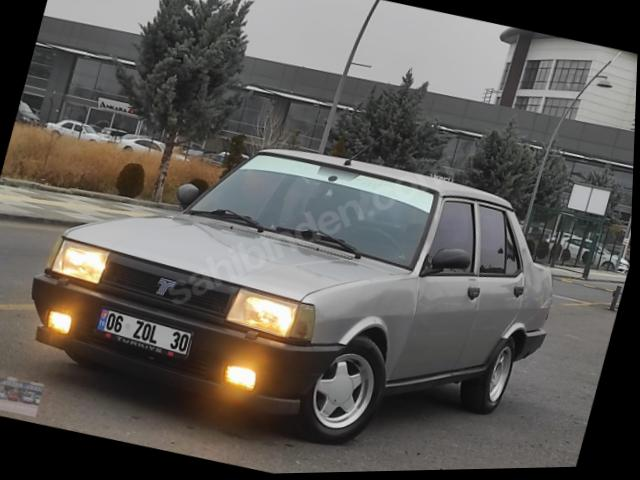plaka: (96, 307, 192, 356)
